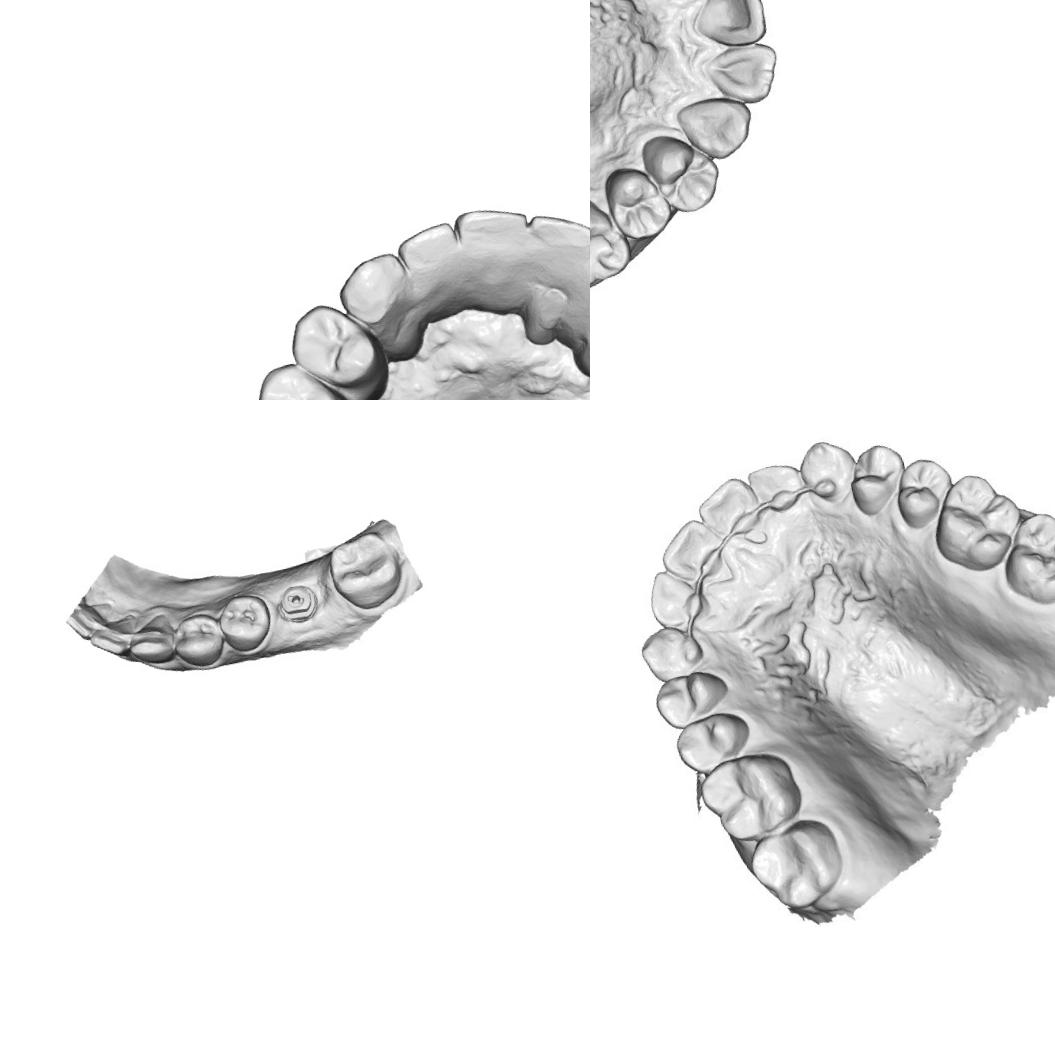canine: (331, 249, 419, 345), (680, 90, 758, 163), (636, 620, 704, 685), (796, 436, 856, 501), (122, 612, 180, 670)
implant_minus: (272, 580, 321, 627)
incisor: (450, 198, 538, 278), (704, 33, 786, 108), (394, 218, 470, 294), (521, 202, 590, 281), (692, 473, 760, 542), (693, 0, 773, 56), (658, 518, 721, 579), (644, 564, 704, 626), (746, 456, 808, 513), (85, 610, 144, 662), (62, 598, 118, 644)
molar: (693, 748, 804, 846), (742, 816, 849, 915), (928, 469, 1024, 565), (323, 526, 408, 616), (990, 501, 1055, 600), (590, 185, 629, 292)
premolar: (283, 295, 383, 398), (638, 125, 729, 222), (600, 158, 670, 248), (672, 712, 754, 775), (843, 442, 910, 514), (653, 668, 729, 728), (251, 355, 348, 400), (212, 588, 276, 656), (891, 454, 954, 520), (168, 606, 228, 672)
